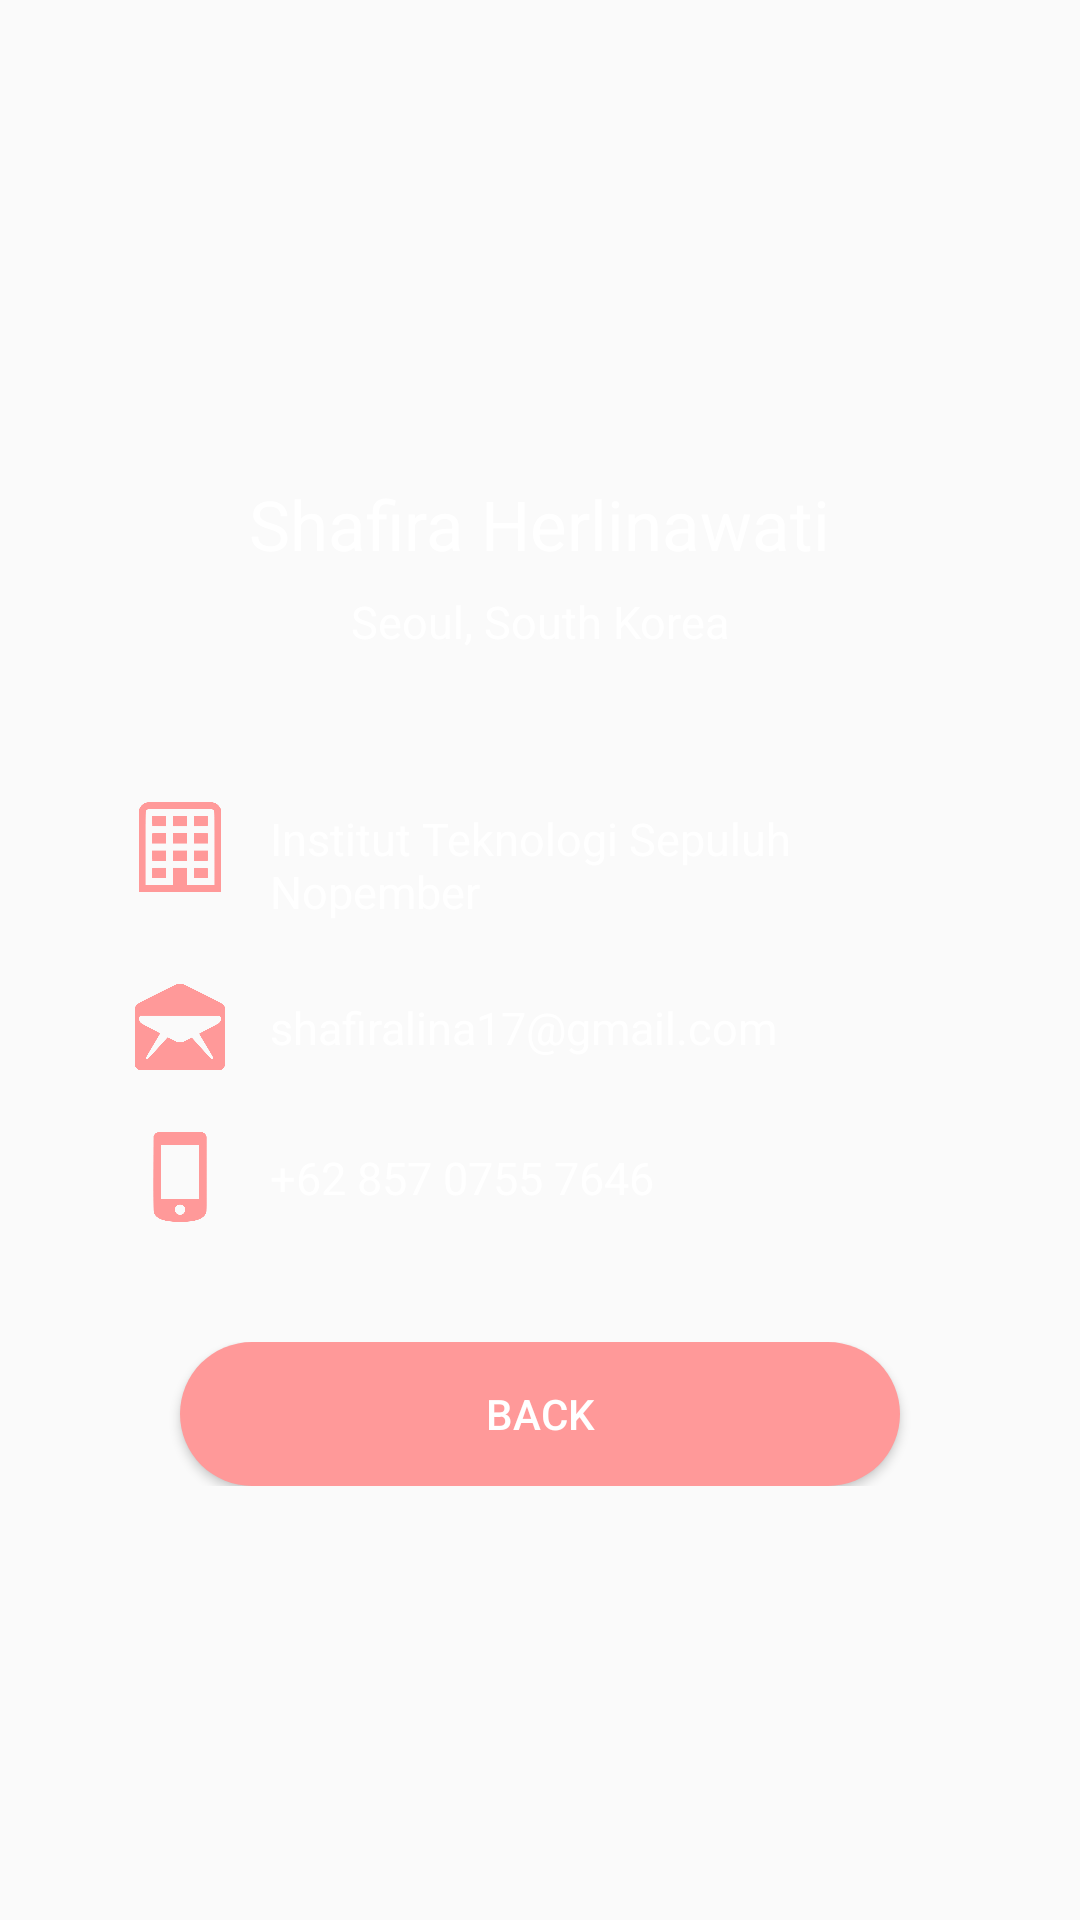

Point at icon controls on the screen. Image size 1080w x 1920h, points as point (x, y).
phone: point (180, 1177)
univ: point (180, 847)
